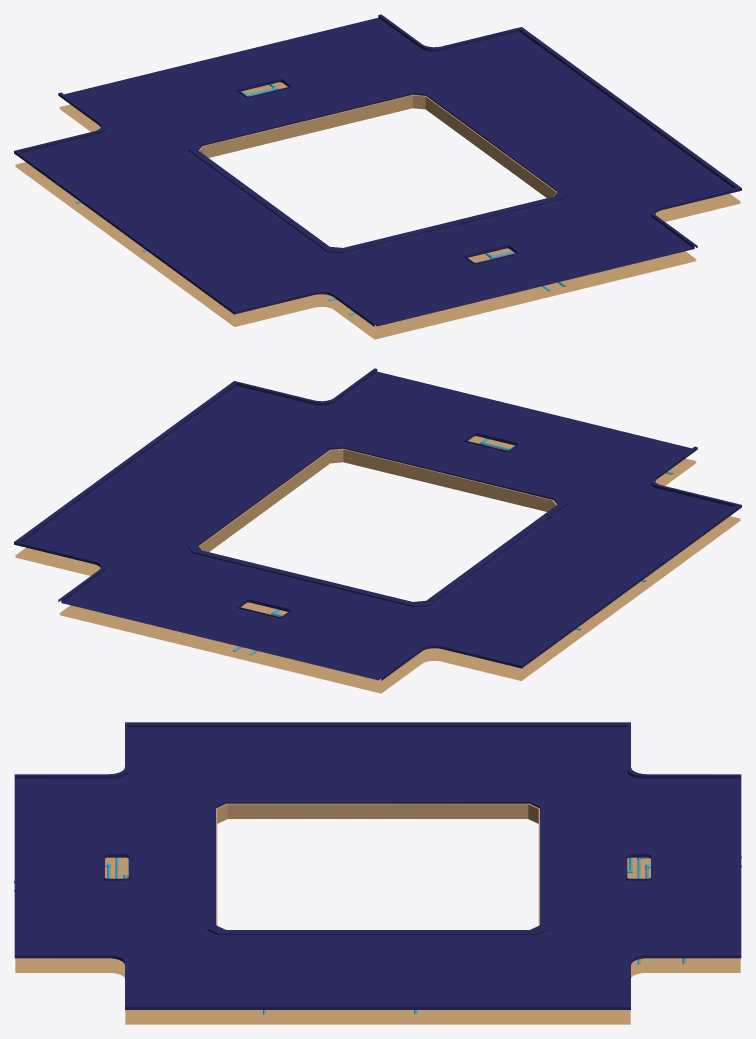
The model's file is room_floor.fbx.
3 views of the same model, one above another, from view 1: azimuth 30°, elevation 25°; view 2: azimuth 150°, elevation 25°; view 3: azimuth 270°, elevation 25° (orthographic). The views are drawn at different scales.
Visible parts, largest first — view 1: Room_single.006; view 2: Room_single.006; view 3: Room_single.006.
Part boxes in pixels (<box>): Room_single.006: <box>14,14,741,339</box>; Room_single.006: <box>14,368,741,693</box>; Room_single.006: <box>14,722,741,1024</box>.
Bounding box in the file's own units: 159102 × 4651 × 171835.
